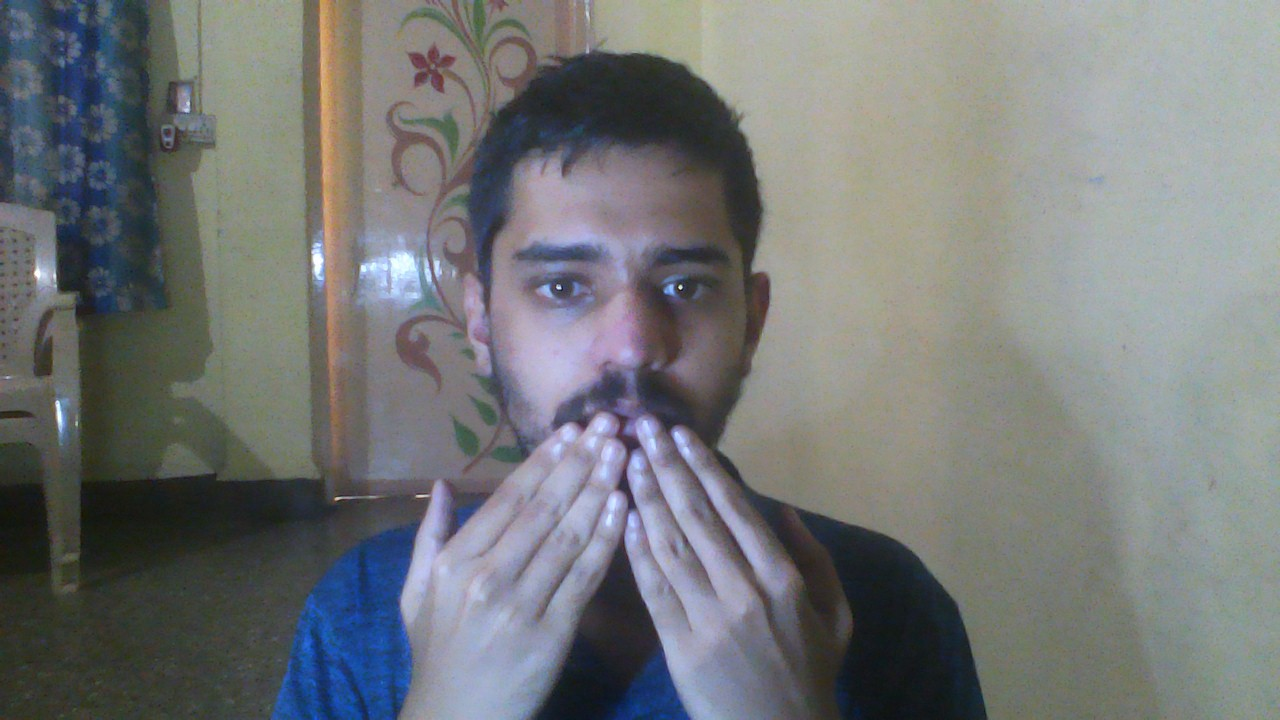thanks: (365, 389, 866, 720)
